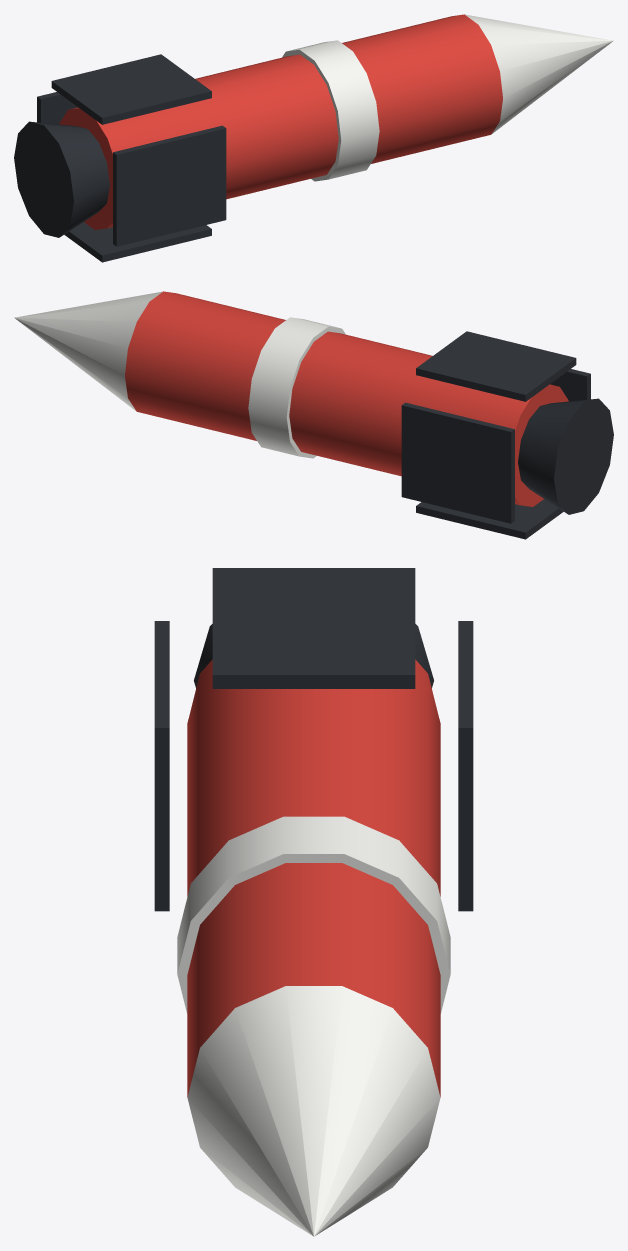
File: missile.glb
3 renders of one model, top to bottom at view 1: azimuth 30°, elevation 25°; view 2: azimuth 150°, elevation 25°; view 3: azimuth 270°, elevation 25°, orthographic. The views are drawn at different scales.
Parts seen in each view (by area): view 1: Body, Fin_1, Nozzle, Nose, Fin, Band, Fin_2, Fin_3; view 2: Body, Fin_3, Nozzle, Nose, Fin, Band, Fin_2, Fin_1; view 3: Body, Nose, Fin, Band, Fin_1, Fin_3, Nozzle.
Part boxes in pixels (left/top/right/bottom): Body: left=59, top=14, right=502, bottom=229; Fin_1: left=113, top=125, right=226, bottom=246; Nozzle: left=14, top=121, right=109, bottom=237; Nose: left=465, top=14, right=613, bottom=134; Fin: left=51, top=54, right=211, bottom=124; Band: left=282, top=40, right=379, bottom=181; Fin_2: left=64, top=222, right=211, bottom=262; Fin_3: left=37, top=92, right=77, bottom=124; Body: left=125, top=291, right=568, bottom=506; Fin_3: left=401, top=402, right=514, bottom=523; Nozzle: left=518, top=398, right=613, bottom=514; Nose: left=14, top=291, right=162, bottom=411; Fin: left=416, top=331, right=576, bottom=401; Band: left=248, top=317, right=345, bottom=458; Fin_2: left=416, top=499, right=563, bottom=539; Fin_1: left=550, top=369, right=590, bottom=401; Body: left=187, top=659, right=440, bottom=1097; Nose: left=187, top=986, right=440, bottom=1236; Fin: left=212, top=568, right=415, bottom=688; Band: left=177, top=816, right=450, bottom=1013; Fin_1: left=154, top=621, right=169, bottom=911; Fin_3: left=458, top=621, right=473, bottom=911; Nozzle: left=194, top=624, right=433, bottom=688.
Bounding box in the file's own units: 1.04 × 0.252 × 0.252.
